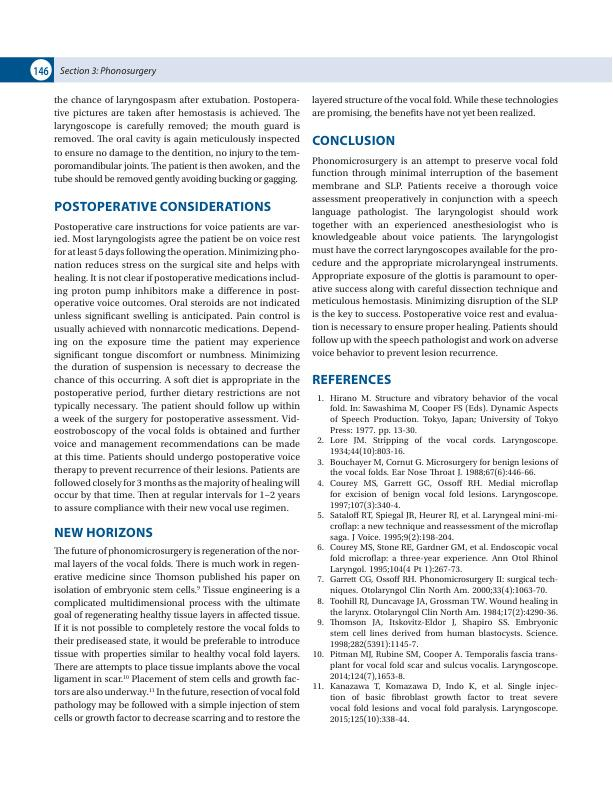header: (59, 66, 157, 77)
list: (313, 393, 559, 725)
section-heading: (54, 201, 272, 212), (54, 527, 153, 538), (311, 135, 396, 146), (312, 374, 392, 385)
text: (53, 221, 301, 515), (311, 155, 559, 360), (52, 545, 301, 725), (52, 94, 301, 186), (311, 95, 558, 119)
